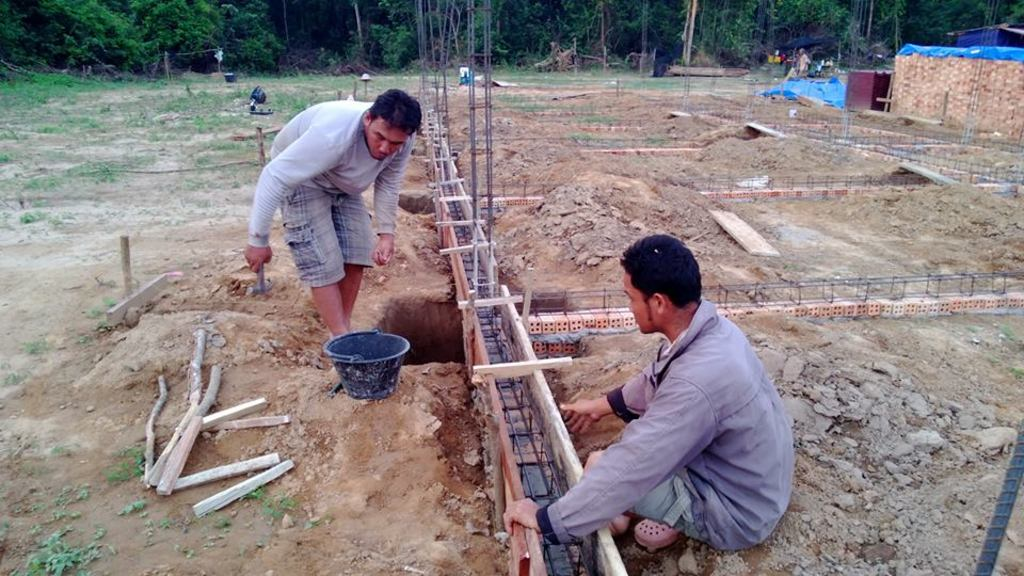Person: (502, 233, 796, 548), (242, 88, 422, 338)
